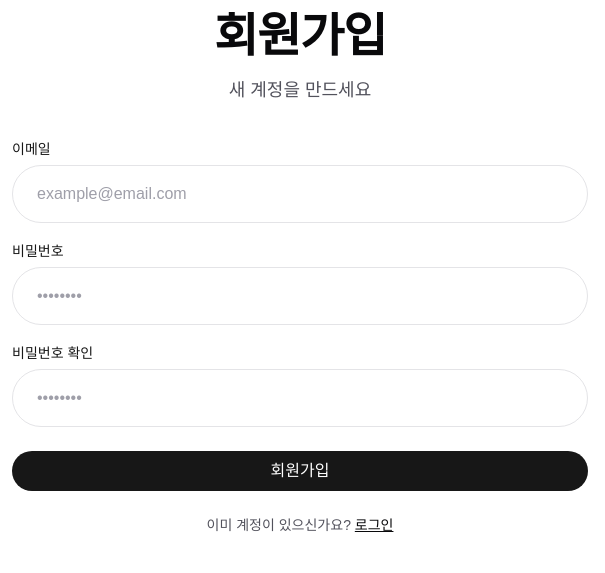
Test case: SignupForm › Validation - Password Mismatch › should show error when passwords do not match
In the field labelled "이메일": (300, 194) x1=12 y1=165 x2=588 y2=223, type "test@example.com"
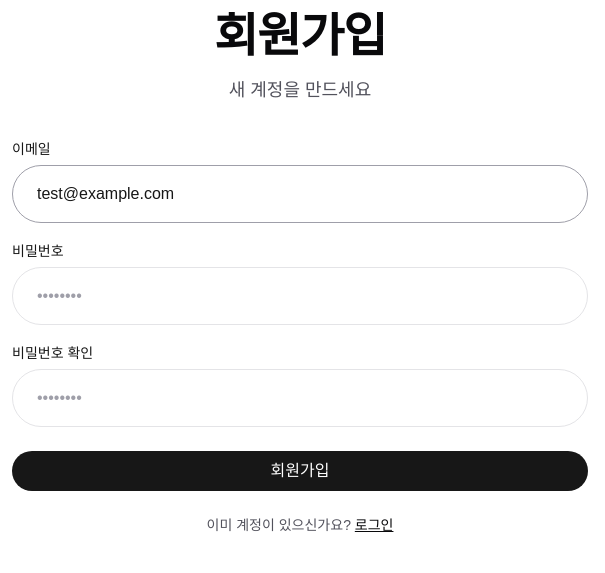
In the password field labelled "비밀번호": (300, 296) x1=12 y1=267 x2=588 y2=325, type "password123"
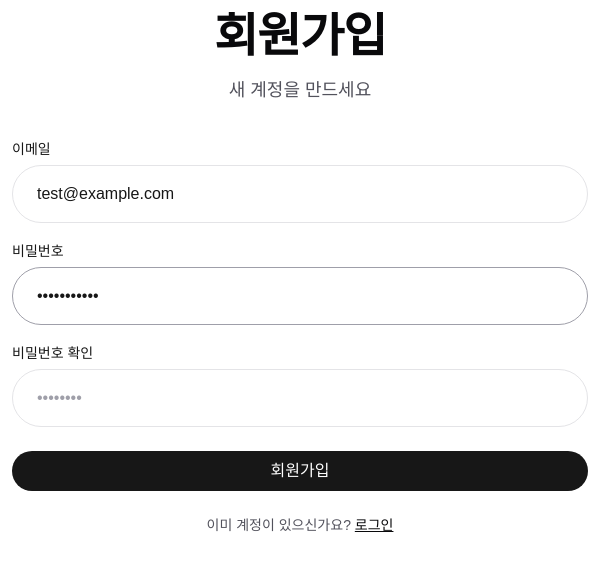
In the password field labelled "비밀번호 확인": (300, 398) x1=12 y1=369 x2=588 y2=427, type "password456"
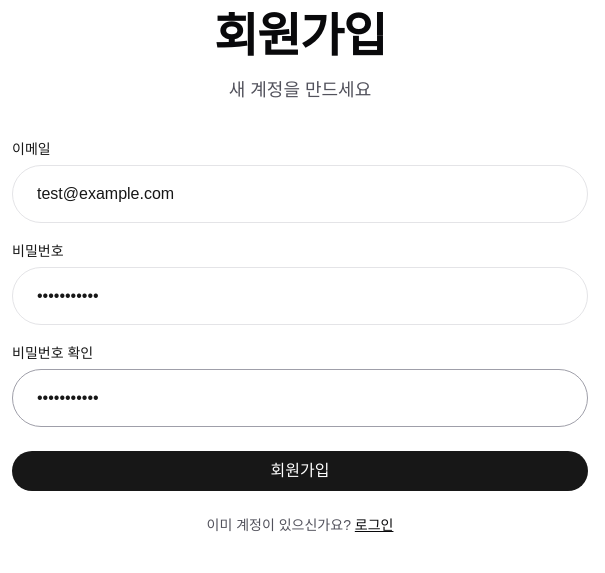
Click the button "회원가입": (300, 471) x1=12 y1=451 x2=588 y2=491
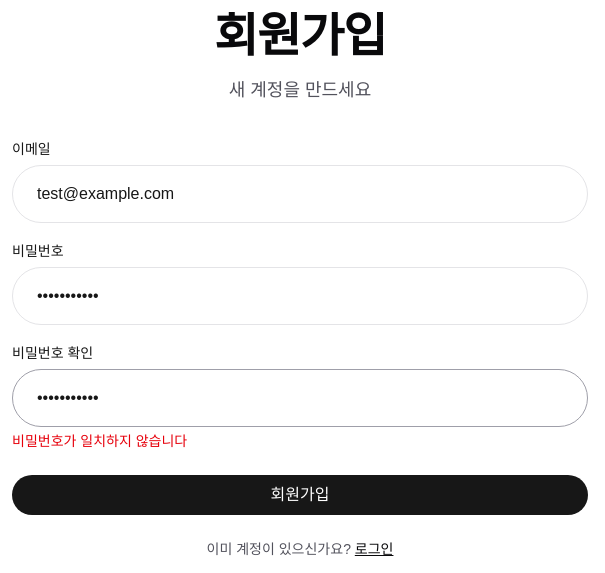
Expected: the text "비밀번호가 일치하지 않습니다" is shown, x1=12 y1=433 x2=187 y2=449
